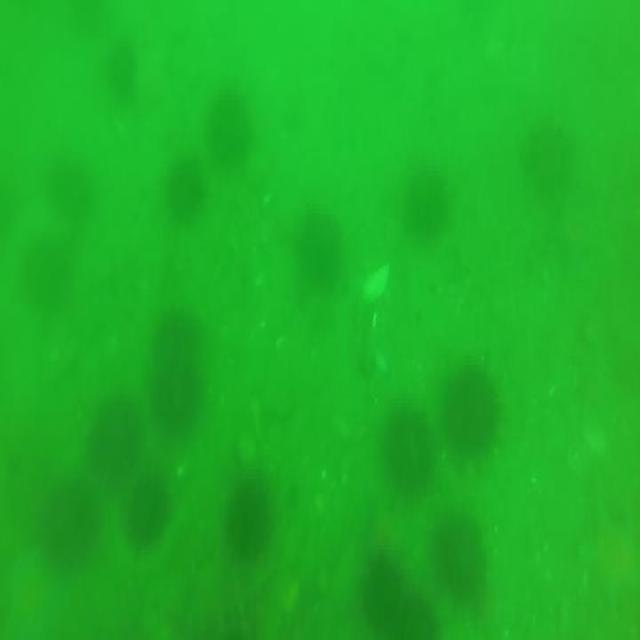echinus: (154, 319, 209, 433), (443, 363, 504, 460), (221, 472, 280, 570), (41, 474, 100, 566), (380, 404, 438, 494), (436, 506, 488, 604), (89, 394, 144, 485), (121, 473, 180, 553), (361, 554, 414, 640), (204, 91, 256, 168), (403, 161, 454, 239), (527, 123, 571, 207), (299, 213, 343, 291), (46, 152, 91, 216), (27, 234, 71, 297), (163, 161, 207, 221), (110, 44, 132, 101)
